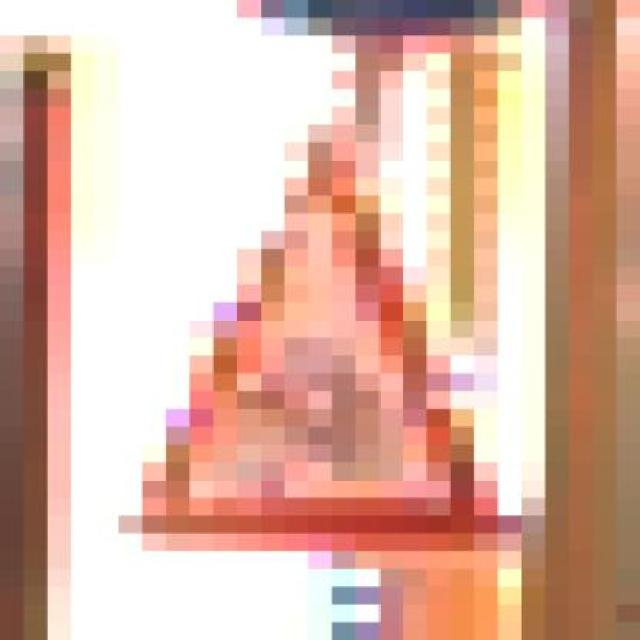CYCLE ROUTE AHEAD WARNING: (119, 71, 522, 551)
